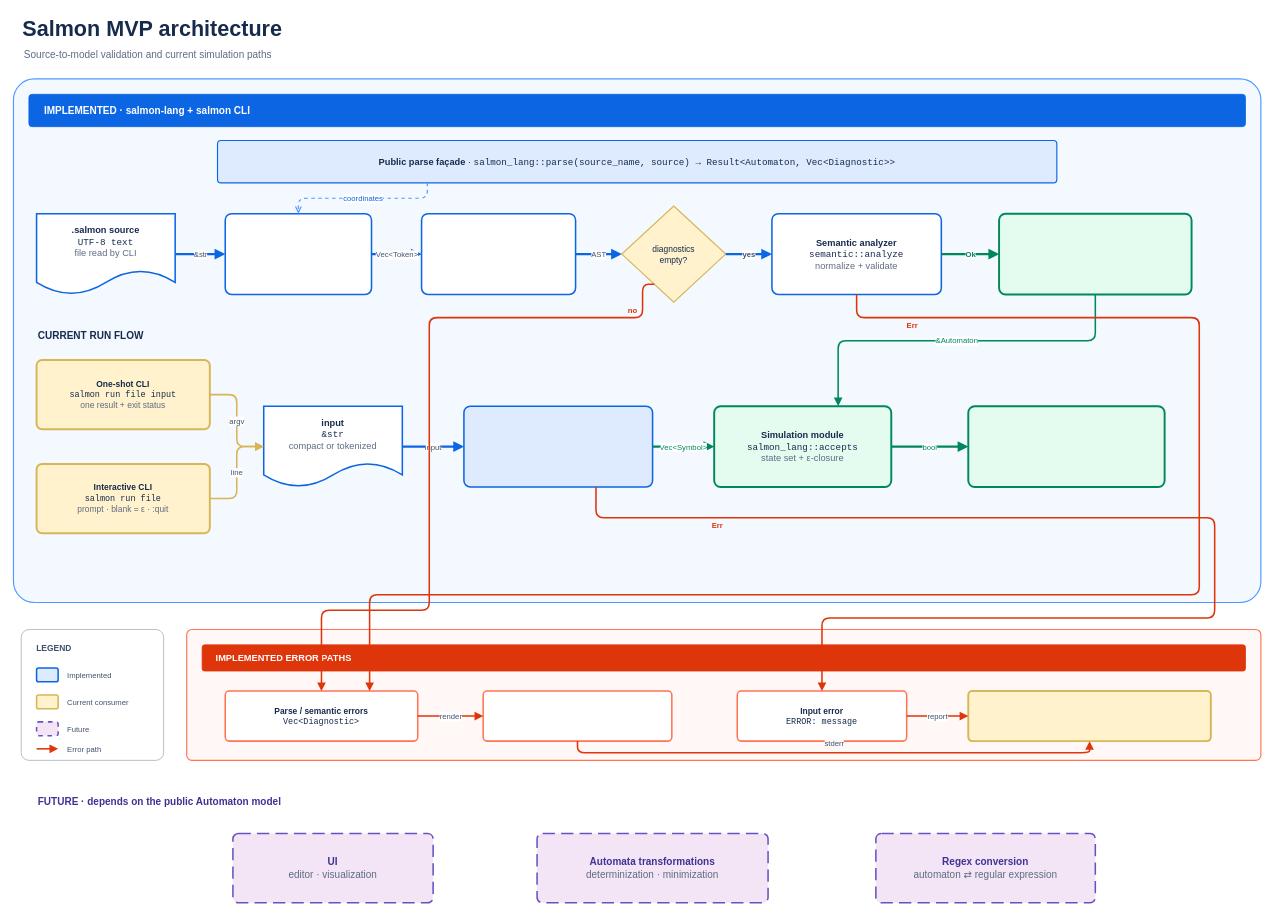
This 1275x916 diagram has some shape labels left out. The centre of each missing label's shape, as x and y in pixels:
Automaton public model DFA · NFA · ε-NFA: point (1095, 253)
CLI handling stderr / interactive ERROR · exit 2 or continue: point (1089, 716)
CLI input parser parse_input(input, alphabet) quotes · Unicode · empty word: point (558, 446)
Diagnostic renderer source:line:column: point (577, 716)
Lexer lexer::lex tokens + diagnostics: point (298, 254)
OK / NOT one-shot: exit 0 / 1 interactive: print + continue: point (1066, 446)
Parser parser::parse_tokens spanned AST: point (498, 254)
